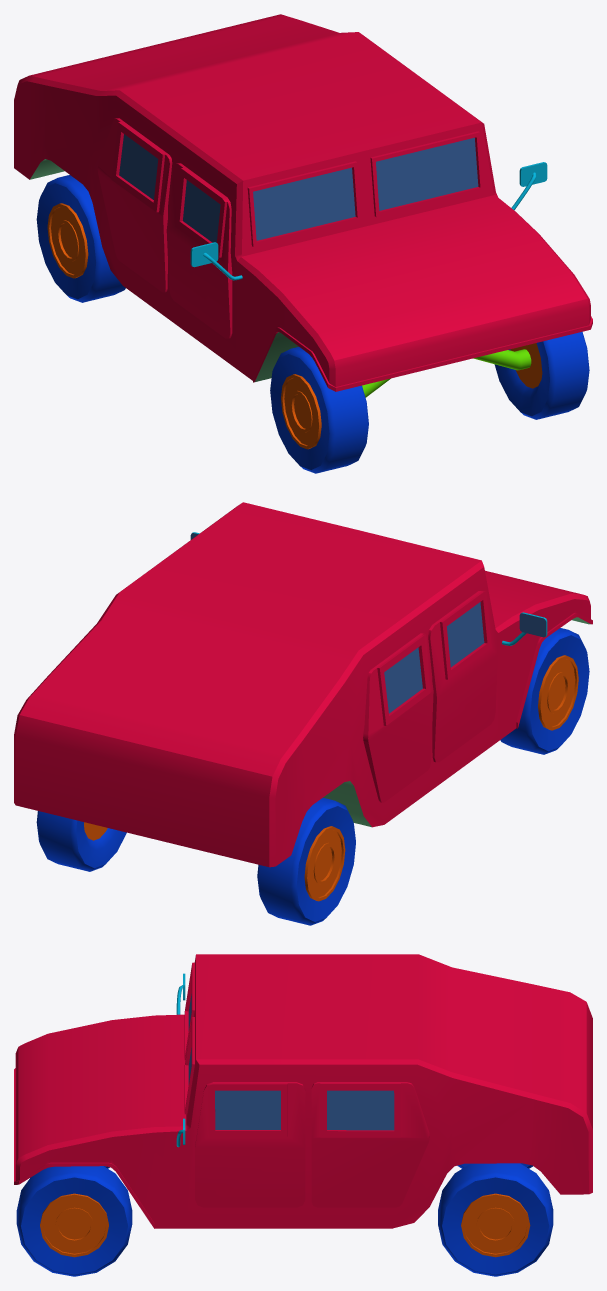
The model's file is Humvee.fbx.
3 views of the same model, one above another, from view 1: azimuth 30°, elevation 25°; view 2: azimuth 150°, elevation 25°; view 3: azimuth 270°, elevation 25° (orthographic). The views are drawn at different scales.
Parts seen in each view (by area): view 1: pCylinder3; view 2: pCylinder3; view 3: pCylinder3.
Part boxes in pixels (x1,y1,x2,y2): pCylinder3: (14, 14, 592, 473); pCylinder3: (14, 502, 592, 925); pCylinder3: (14, 954, 592, 1276).
Bounding box in the file's own units: 247 × 158 × 386.
